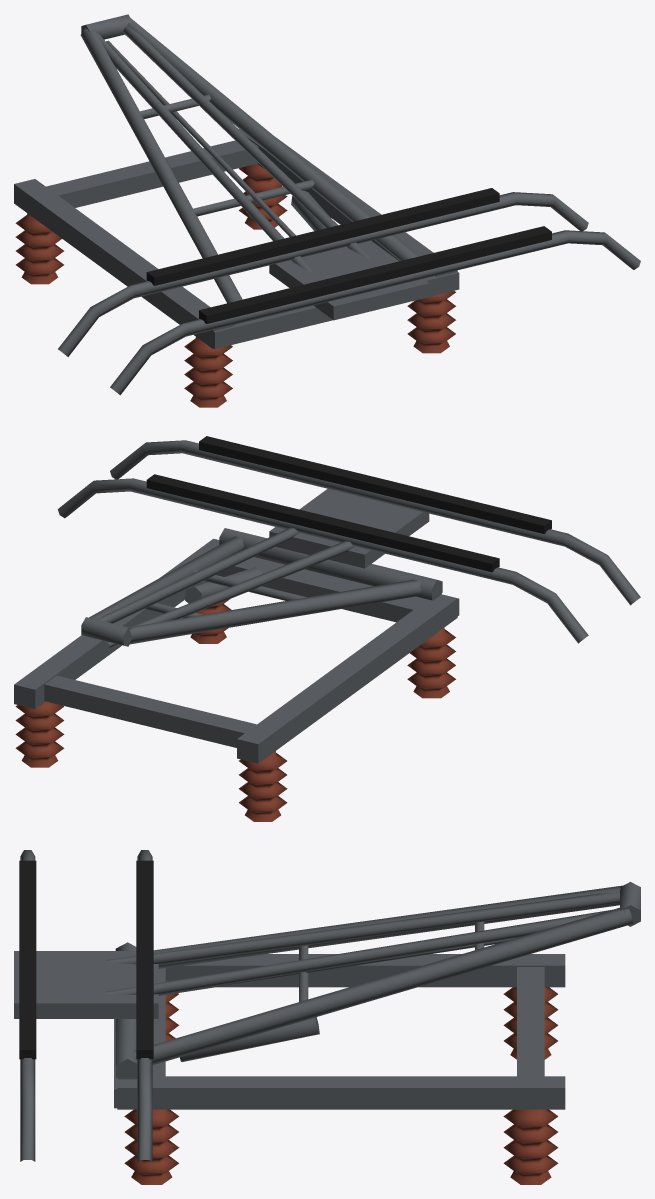
The model's file is pantograph_lod1.glb.
The picture shows the model from 3 angles, top to bottom: view 1: azimuth 30°, elevation 25°; view 2: azimuth 150°, elevation 25°; view 3: azimuth 270°, elevation 25°; orthographic projection. The views are drawn at different scales.
Visible parts, largest first — view 1: panto_head, panto_base, panto_lower, panto_upper; view 2: panto_base, panto_head, panto_lower, panto_upper; view 3: panto_base, panto_head, panto_lower, panto_upper.
Part boxes in pixels (x1,y1,x2,y2): panto_head: (58, 188, 640, 395); panto_base: (14, 129, 459, 407); panto_lower: (80, 18, 419, 303); panto_upper: (81, 14, 371, 272); panto_base: (14, 538, 459, 821); panto_head: (57, 436, 640, 643); panto_lower: (89, 528, 442, 644); panto_upper: (81, 527, 354, 648); panto_base: (114, 954, 565, 1184); panto_head: (14, 850, 158, 1161); panto_lower: (115, 885, 633, 1079); panto_upper: (105, 882, 640, 995).
Size of the model in its own units: 1.99 by 0.7132 by 1.82.
